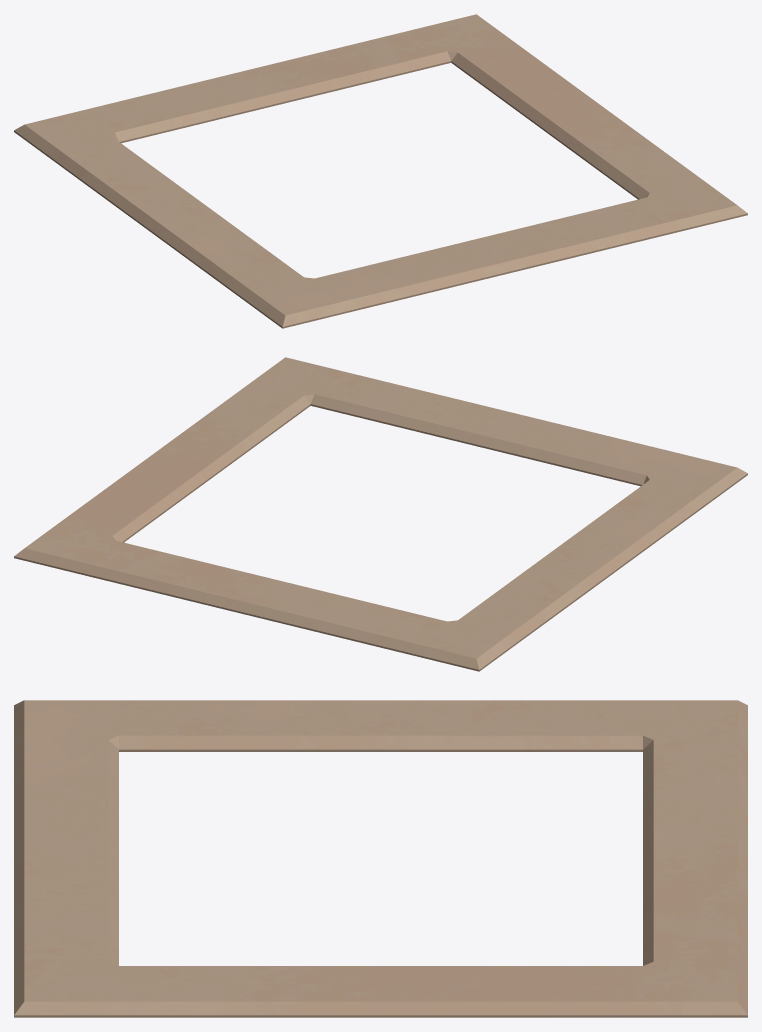
Rendered from RimStarter.fbx.
3 renders of one model, top to bottom at view 1: azimuth 30°, elevation 25°; view 2: azimuth 150°, elevation 25°; view 3: azimuth 270°, elevation 25°, orthographic. The views are drawn at different scales.
Visible parts, largest first — view 1: RimStarter; view 2: RimStarter; view 3: RimStarter.
Boxes of the visible parts, x1,y1,x2,y2 form: RimStarter: (14, 14, 747, 328); RimStarter: (14, 357, 747, 671); RimStarter: (14, 700, 747, 1017).
Size of the model in its own units: 7 by 0.125 by 7.
